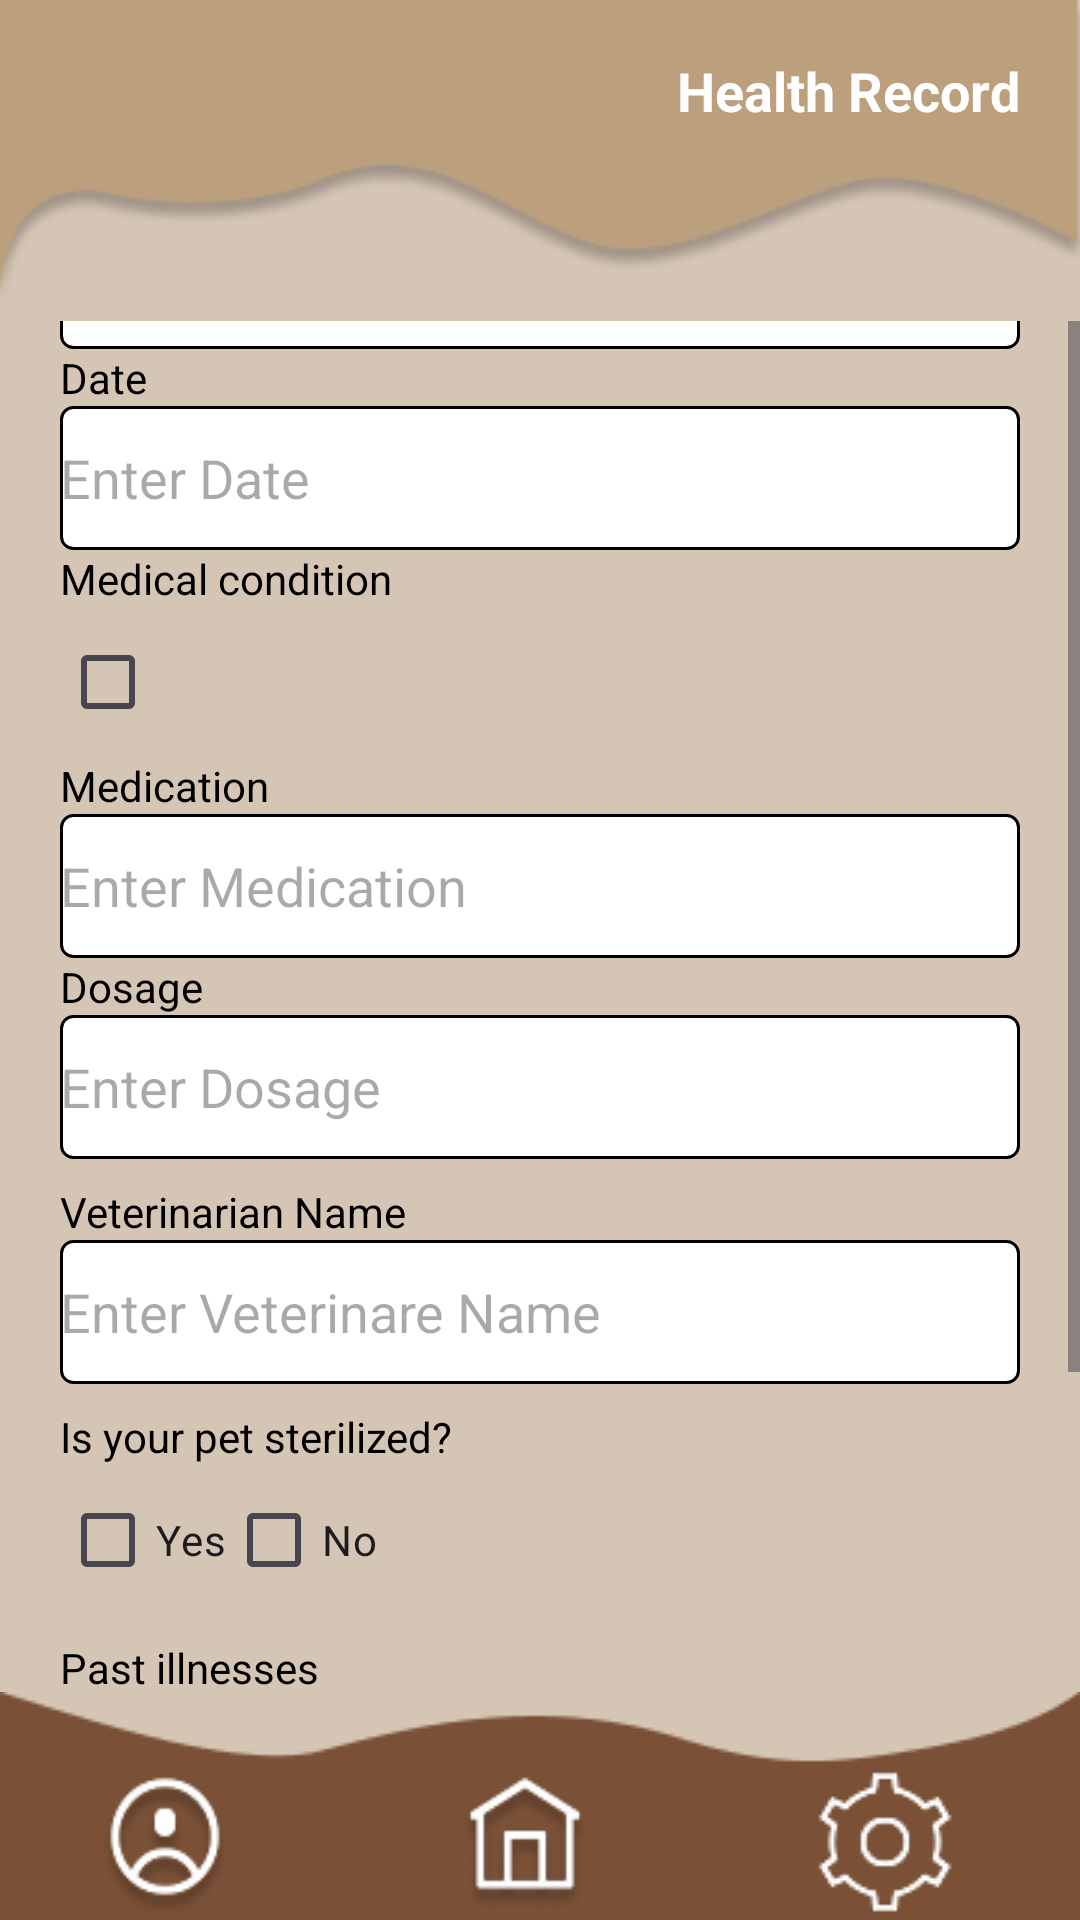

Screen size 1080 x 1920. Icon name, then its box in pixels as bbox=(x1, y1, x2, y2):
Navigate to home screen: bbox=(469, 1777, 581, 1890)
Navigate to profile screen: bbox=(110, 1777, 220, 1896)
